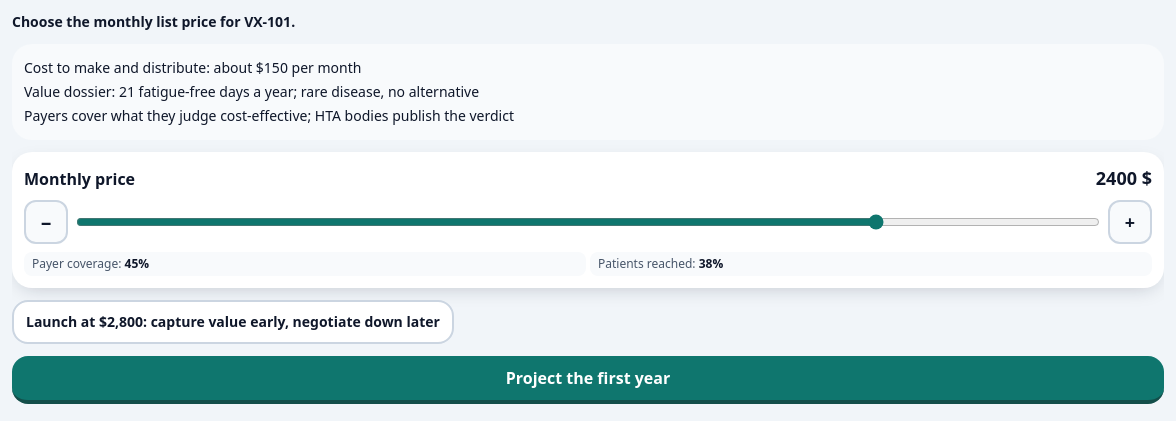
Scenario: Allocator projections › price-access: the reveal coverage follows the curve at the chosen price
Set the slider with test id "slider-price" to "1200" at point(444, 222), box [76,200,1100,244]
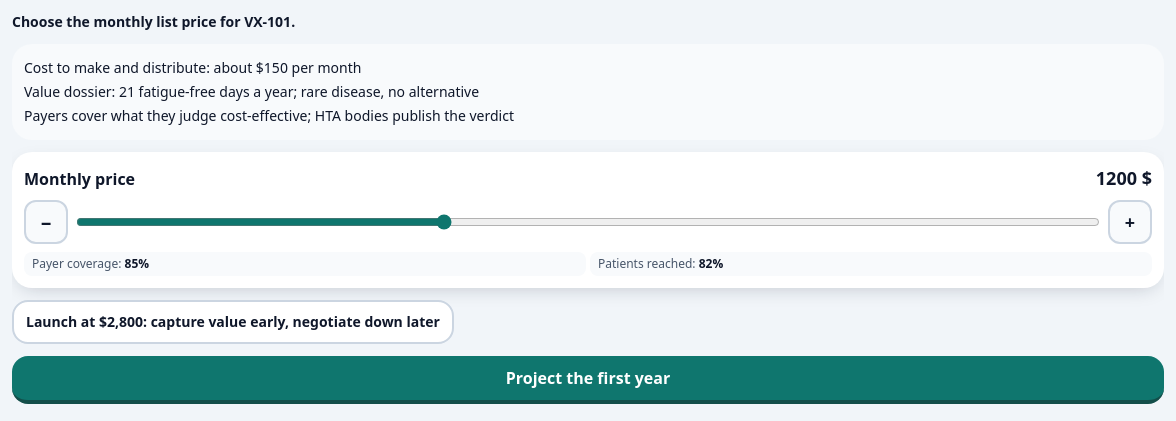
Click the button with test id "allocator-commit".
click(588, 380)  # box [12,356,1164,404]
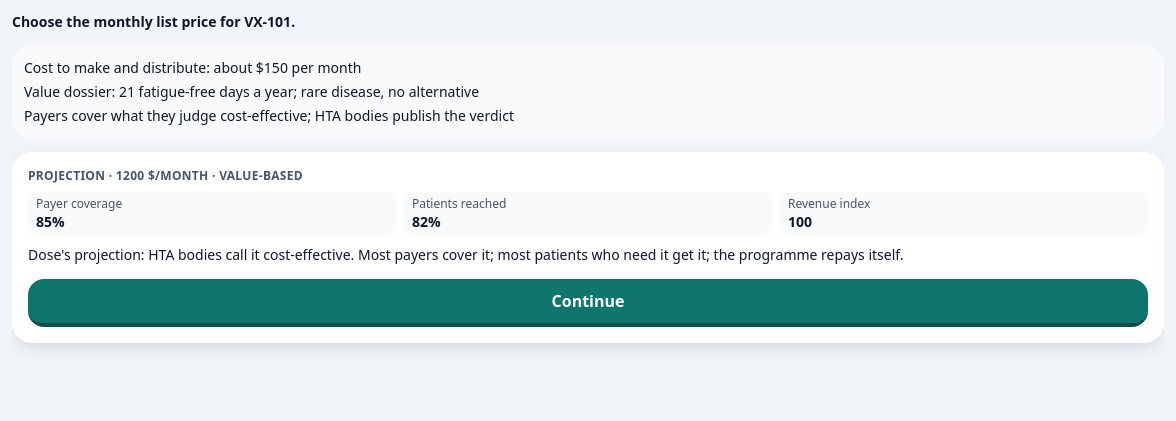
Check: the element with test id "reveal" shows "85%", box [36,212,65,231]
